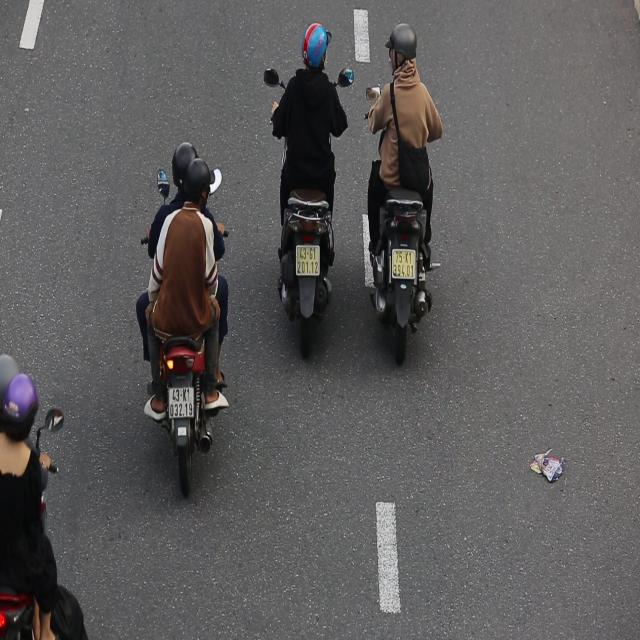motorbike: (354, 9, 454, 370), (136, 132, 232, 505), (258, 5, 352, 344)
